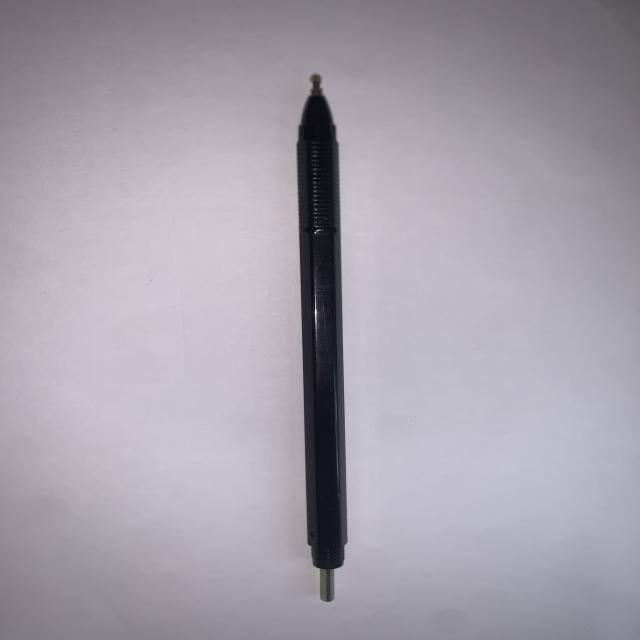Pulpen: (267, 66, 369, 605)
